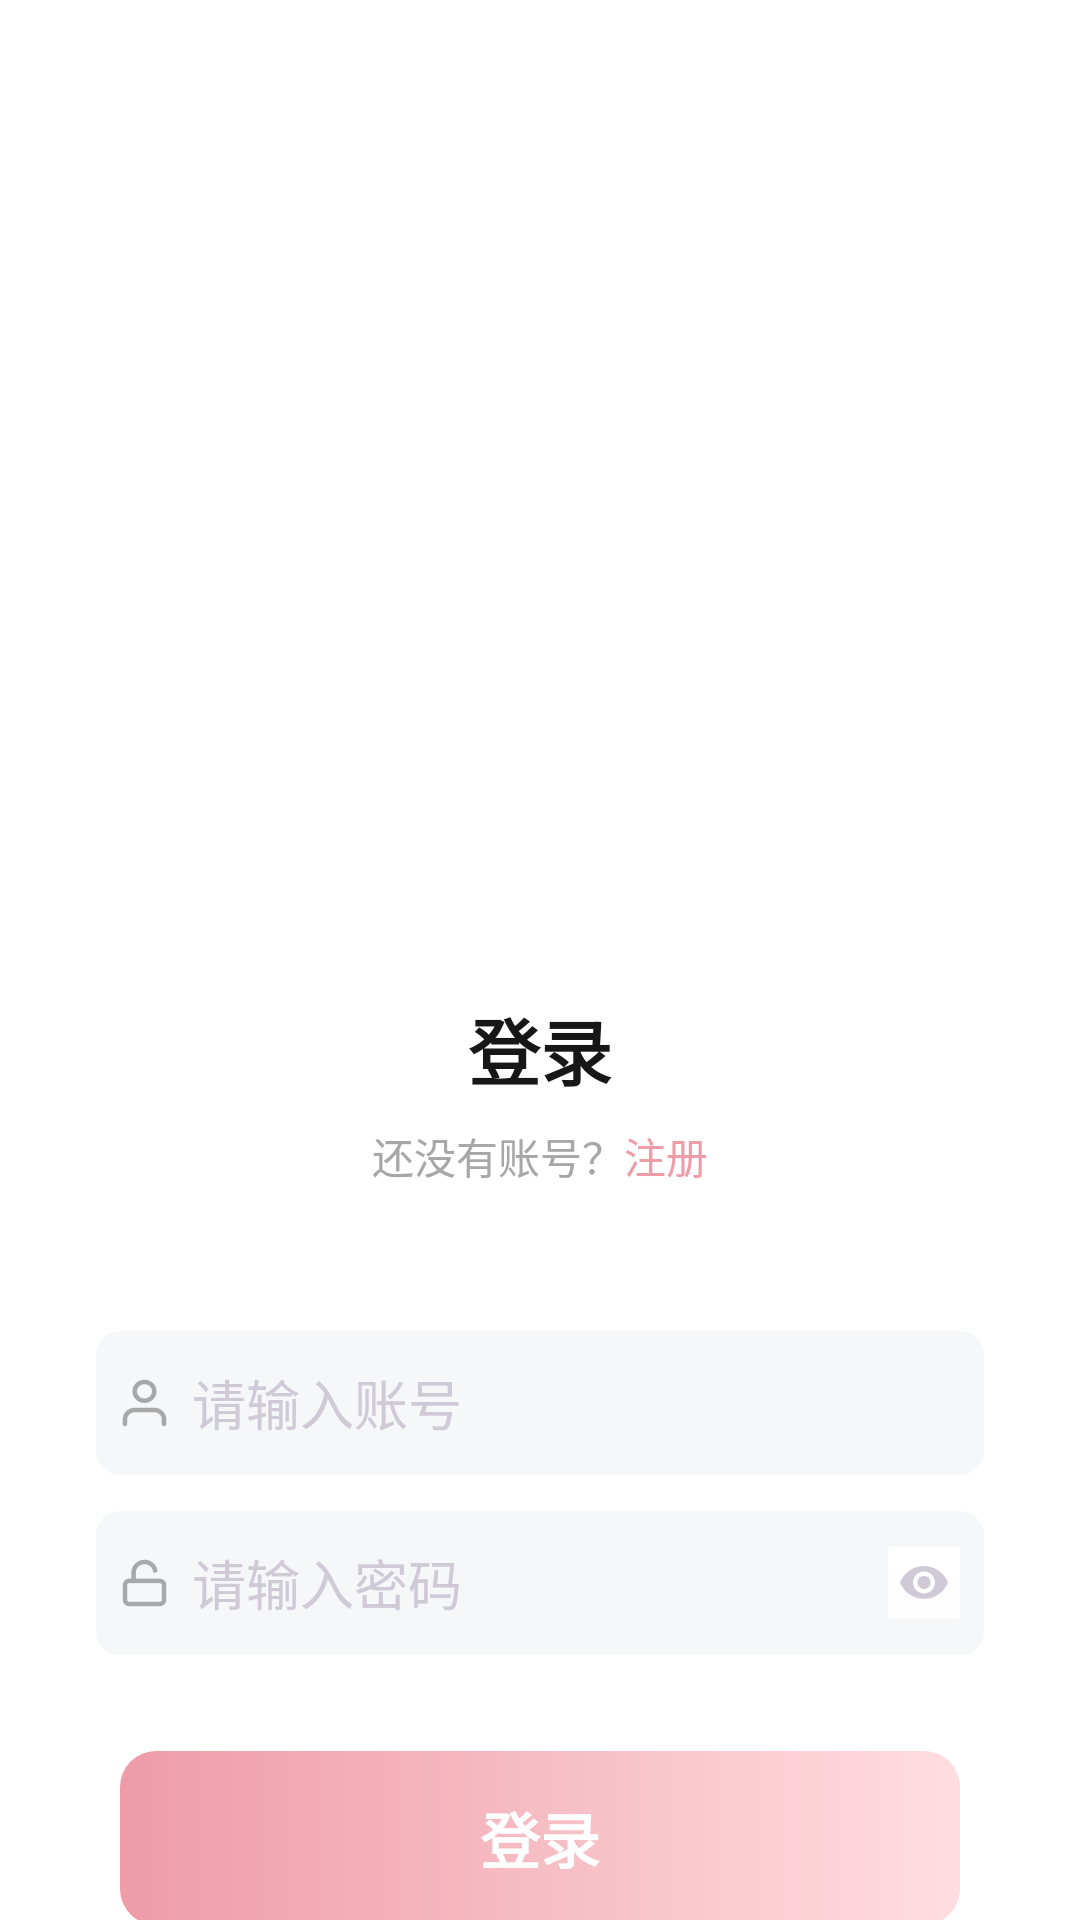

Locate icon controls on the screen. Image size 1080x1920, boxes as {"left": x1, "top": y1, "right": x2, "bottom": y2}.
login account: {"left": 123, "top": 1380, "right": 166, "bottom": 1426}
login pwd: {"left": 123, "top": 1560, "right": 166, "bottom": 1606}
login pwd visibility: {"left": 900, "top": 1566, "right": 948, "bottom": 1599}
